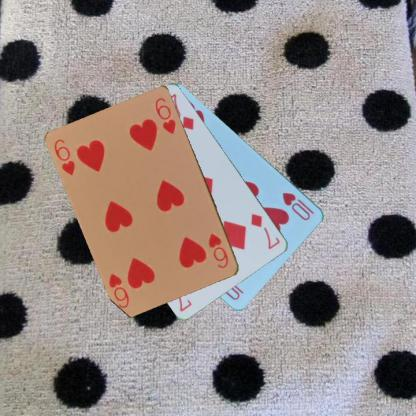10h: (280, 189, 312, 222)
6h: (51, 136, 77, 177), (206, 230, 230, 271)
7d: (248, 210, 282, 251)
